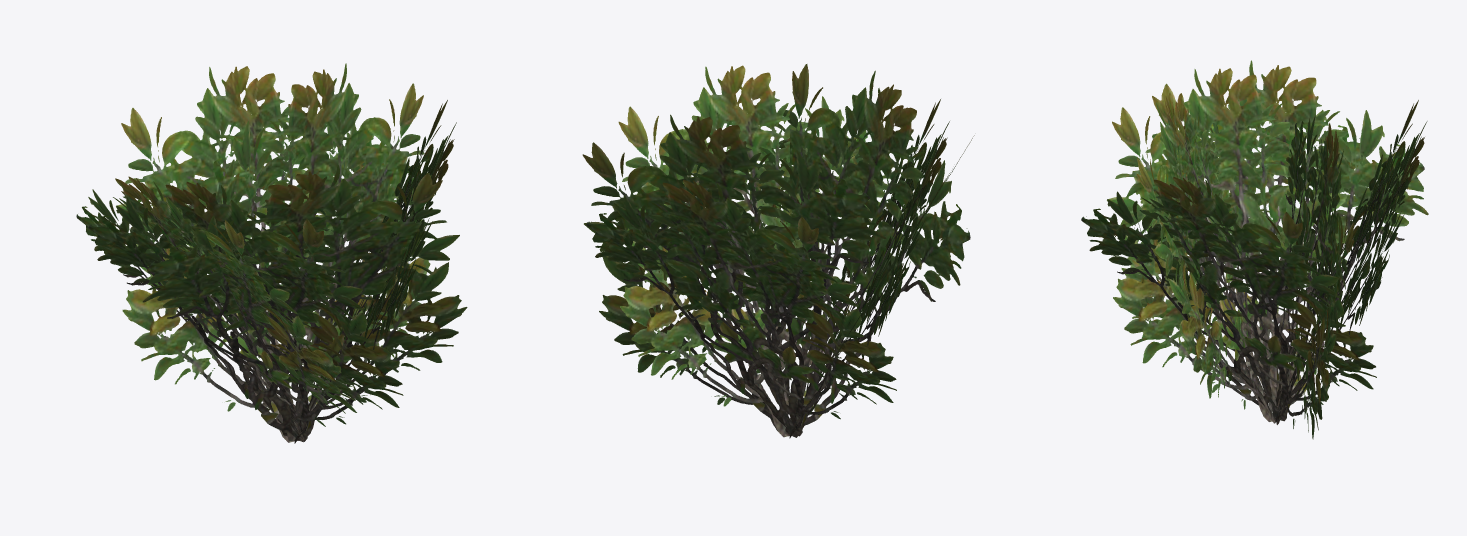
The model's file is bush6.FBX.
3 views of the same model, side by side, from view 1: azimuth 30°, elevation 25°; view 2: azimuth 150°, elevation 25°; view 3: azimuth 270°, elevation 25° (orthographic). The views are drawn at different scales.
Parts seen in each view (by area): view 1: bush6; view 2: bush6; view 3: bush6.
Boxes of the visible parts, bbox=[...] form: bush6: bbox=[76, 63, 467, 443]; bush6: bbox=[582, 64, 974, 438]; bush6: bbox=[1081, 60, 1428, 439].
Bounding box in the file's own units: 35.69 × 34.29 × 31.61.
